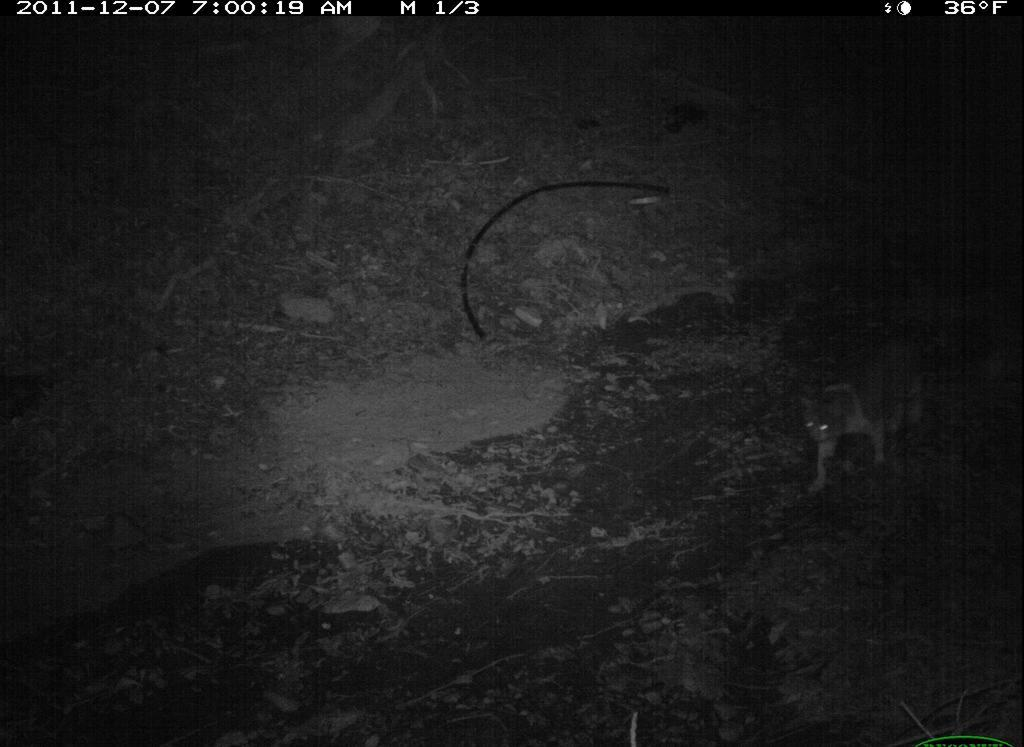cat: (792, 327, 941, 511)
